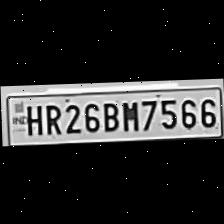2: (60, 100, 80, 135)
5: (155, 94, 177, 130)
6: (79, 100, 99, 134), (176, 96, 196, 130), (196, 94, 216, 128)
7: (136, 96, 156, 132)
B: (98, 97, 118, 132)
H: (21, 100, 41, 136)
M: (118, 98, 138, 134)
R: (40, 100, 60, 136)
